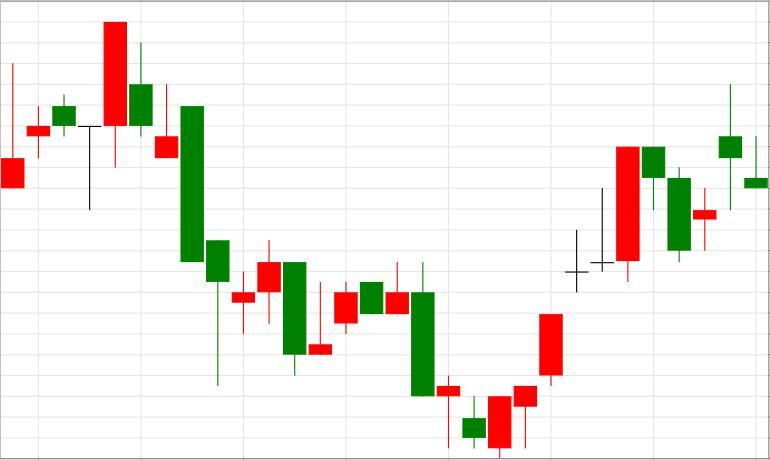hammer_rise: (103, 21, 230, 385)
